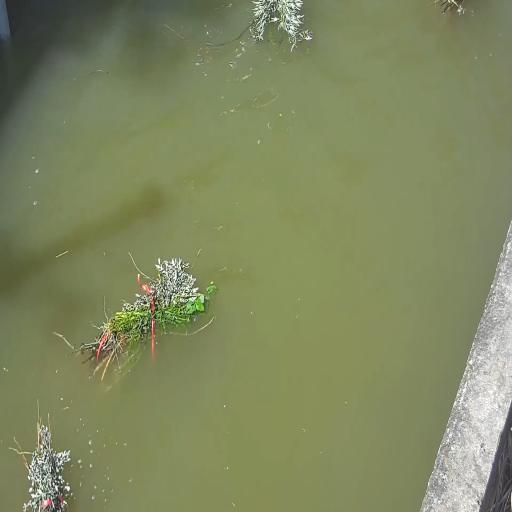twig: (64, 252, 217, 379), (169, 2, 307, 132), (8, 399, 72, 511), (428, 1, 472, 17)
